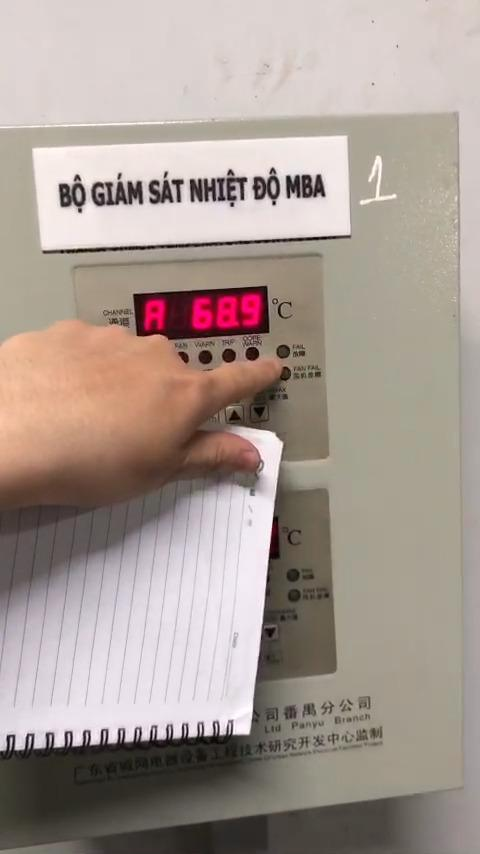led: (275, 343, 292, 360), (222, 347, 238, 364), (174, 350, 192, 365), (245, 346, 261, 362), (198, 350, 214, 365), (279, 366, 293, 382), (287, 568, 300, 582), (287, 589, 301, 602)
